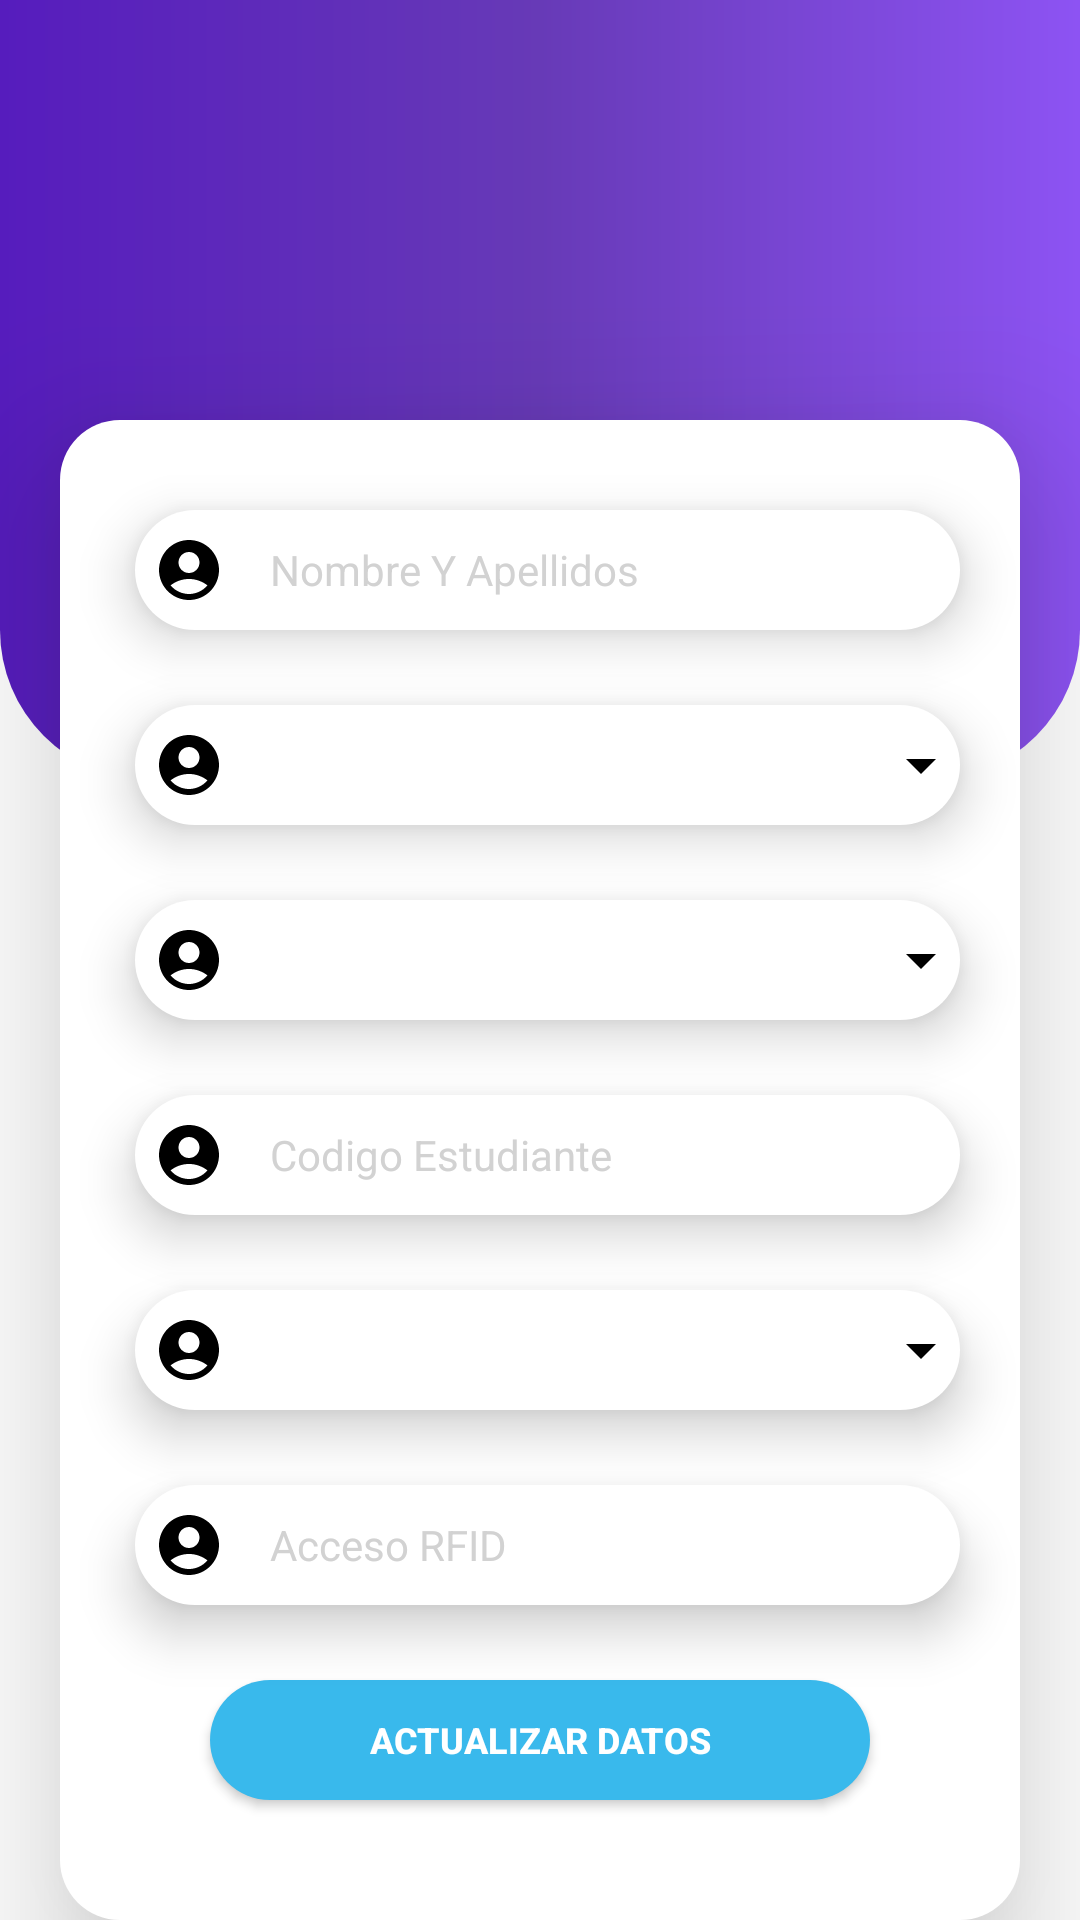

Where icons sit on this 1080 × 1920 app screen, as {"left": x1, "top": y1, "right": x2, "bottom": y2}:
arrow drop down: {"left": 906, "top": 759, "right": 936, "bottom": 774}, {"left": 906, "top": 954, "right": 936, "bottom": 969}, {"left": 906, "top": 1344, "right": 936, "bottom": 1359}
